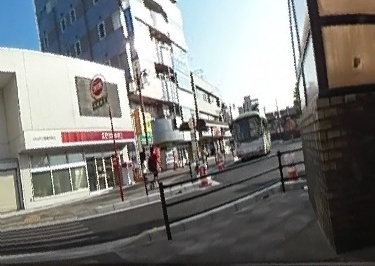person: (145, 144, 163, 188)
